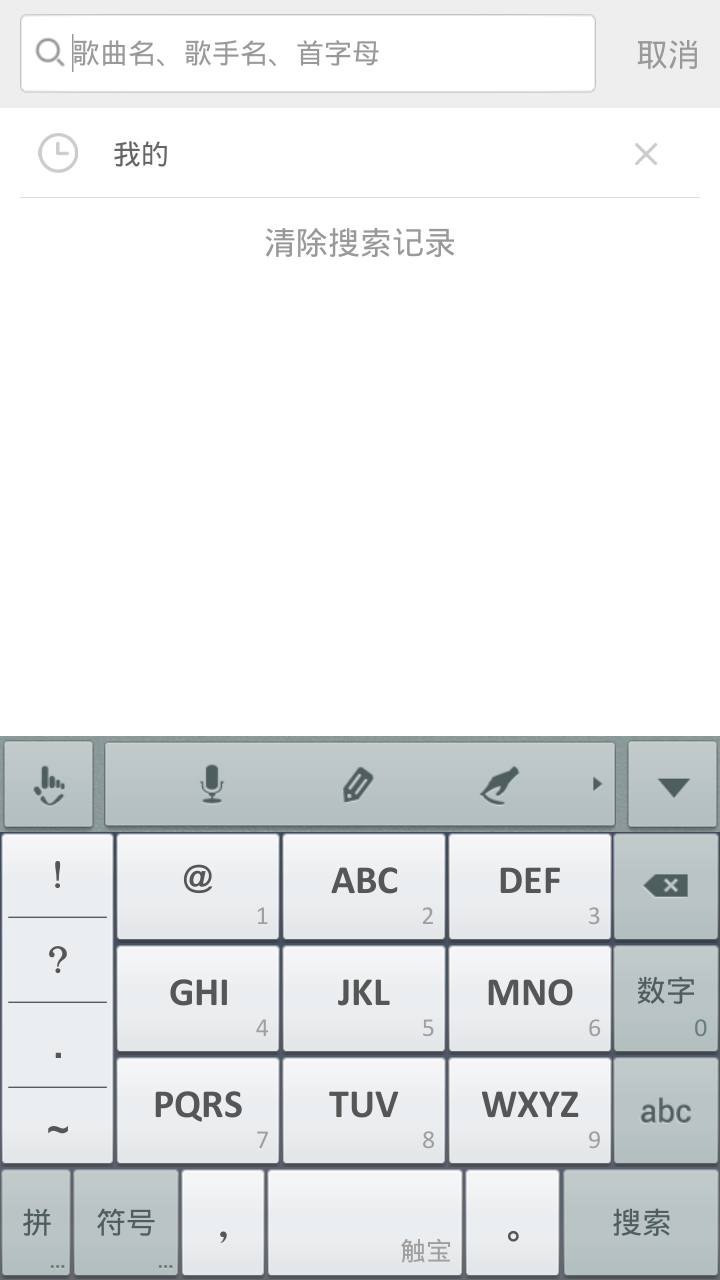imgbutton: (626, 130, 669, 174)
textview: (15, 12, 601, 99)
